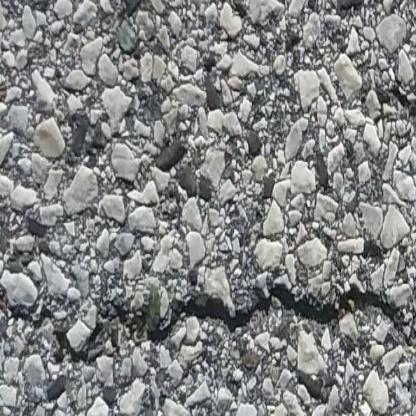Cracks: (0, 285, 330, 363), (338, 292, 402, 319)
